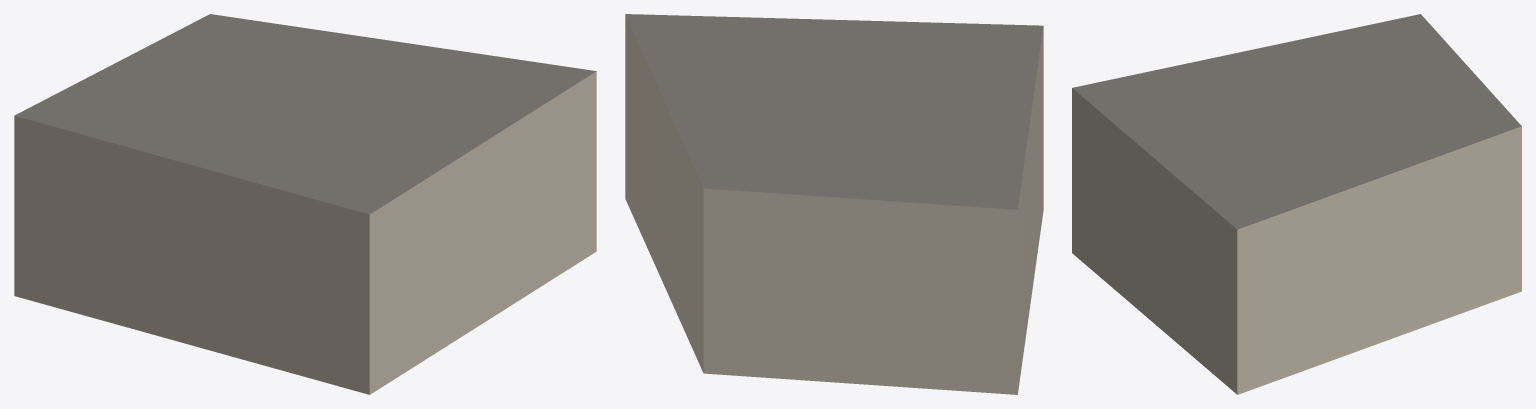
3 views of the same model, side by side, from view 1: azimuth 30°, elevation 25°; view 2: azimuth 150°, elevation 25°; view 3: azimuth 270°, elevation 25° (orthographic). The views are drawn at different scales.
Parts seen in each view (by area): view 1: HP-w495105937; view 2: HP-w495105937; view 3: HP-w495105937.
Boxes of the visible parts, box(x1,y1,x2,y2) form: HP-w495105937: box(14, 14, 596, 394); HP-w495105937: box(625, 14, 1043, 394); HP-w495105937: box(1072, 14, 1521, 394).
Size of the model in its own units: 41.98 by 15 by 37.
